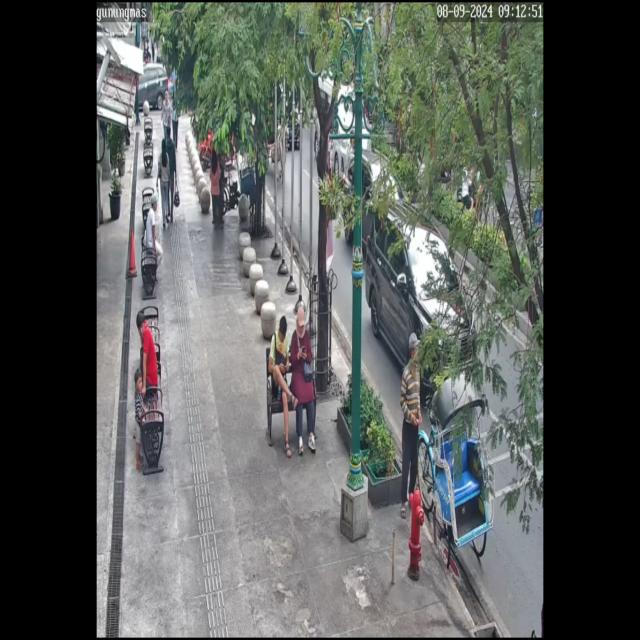Car: (363, 201, 474, 398), (343, 144, 409, 261)
